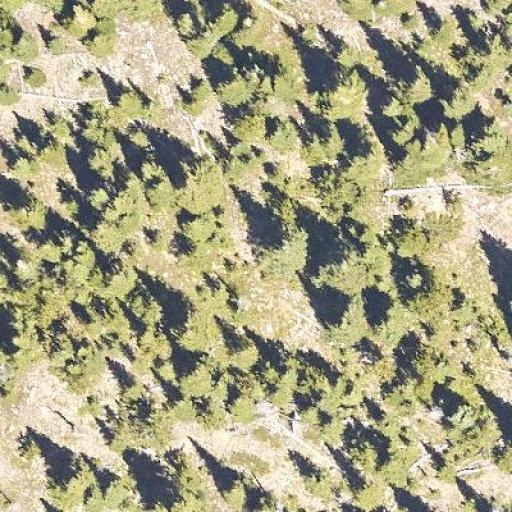tree-top: (319, 235, 389, 299), (309, 62, 372, 128), (438, 398, 504, 460), (172, 150, 231, 216), (325, 292, 378, 350), (188, 277, 238, 332), (388, 120, 434, 176), (296, 119, 350, 166), (210, 64, 262, 112), (174, 355, 222, 406), (391, 64, 439, 114), (232, 6, 278, 56), (48, 455, 94, 504), (389, 218, 437, 263), (259, 227, 307, 271), (434, 78, 480, 123), (410, 348, 452, 394), (99, 258, 142, 302), (100, 467, 142, 512), (342, 434, 384, 477), (259, 363, 301, 406), (179, 208, 224, 248), (80, 139, 123, 180), (302, 402, 342, 444), (227, 106, 270, 145), (384, 373, 418, 422), (175, 311, 214, 353), (468, 130, 502, 176), (60, 345, 104, 380), (111, 83, 149, 122), (0, 288, 39, 326), (143, 485, 197, 512), (127, 288, 166, 325), (265, 113, 301, 153), (311, 368, 346, 409), (35, 284, 73, 320), (314, 174, 354, 208), (136, 402, 173, 438), (227, 335, 263, 371), (106, 194, 138, 233), (194, 393, 230, 427), (216, 472, 250, 507), (182, 73, 214, 108), (7, 253, 45, 281), (14, 433, 48, 464), (10, 199, 44, 230), (136, 330, 174, 357), (67, 0, 96, 35), (35, 134, 66, 166), (7, 28, 40, 58), (71, 238, 100, 272), (226, 388, 258, 418), (425, 286, 455, 318), (142, 175, 174, 205), (333, 40, 367, 68), (108, 412, 139, 442), (86, 25, 113, 59), (171, 8, 201, 38), (464, 56, 494, 86), (84, 181, 111, 211), (8, 150, 35, 178), (402, 266, 430, 292), (121, 377, 150, 402), (304, 464, 329, 492), (213, 4, 239, 30), (190, 28, 215, 55), (129, 123, 155, 148), (47, 110, 72, 134), (39, 235, 63, 258), (46, 33, 70, 56), (139, 156, 164, 177), (13, 130, 34, 154), (433, 19, 450, 41)
